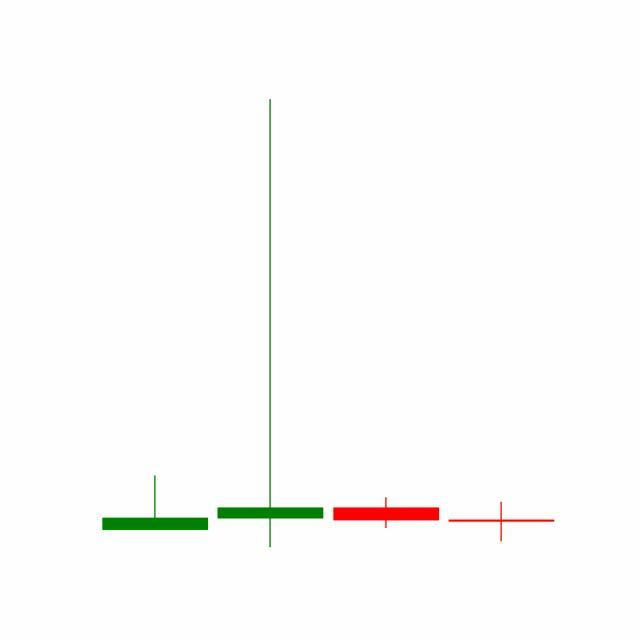Spinning Top: (444, 502, 560, 544)
